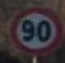limite 90: (9, 7, 63, 57)
